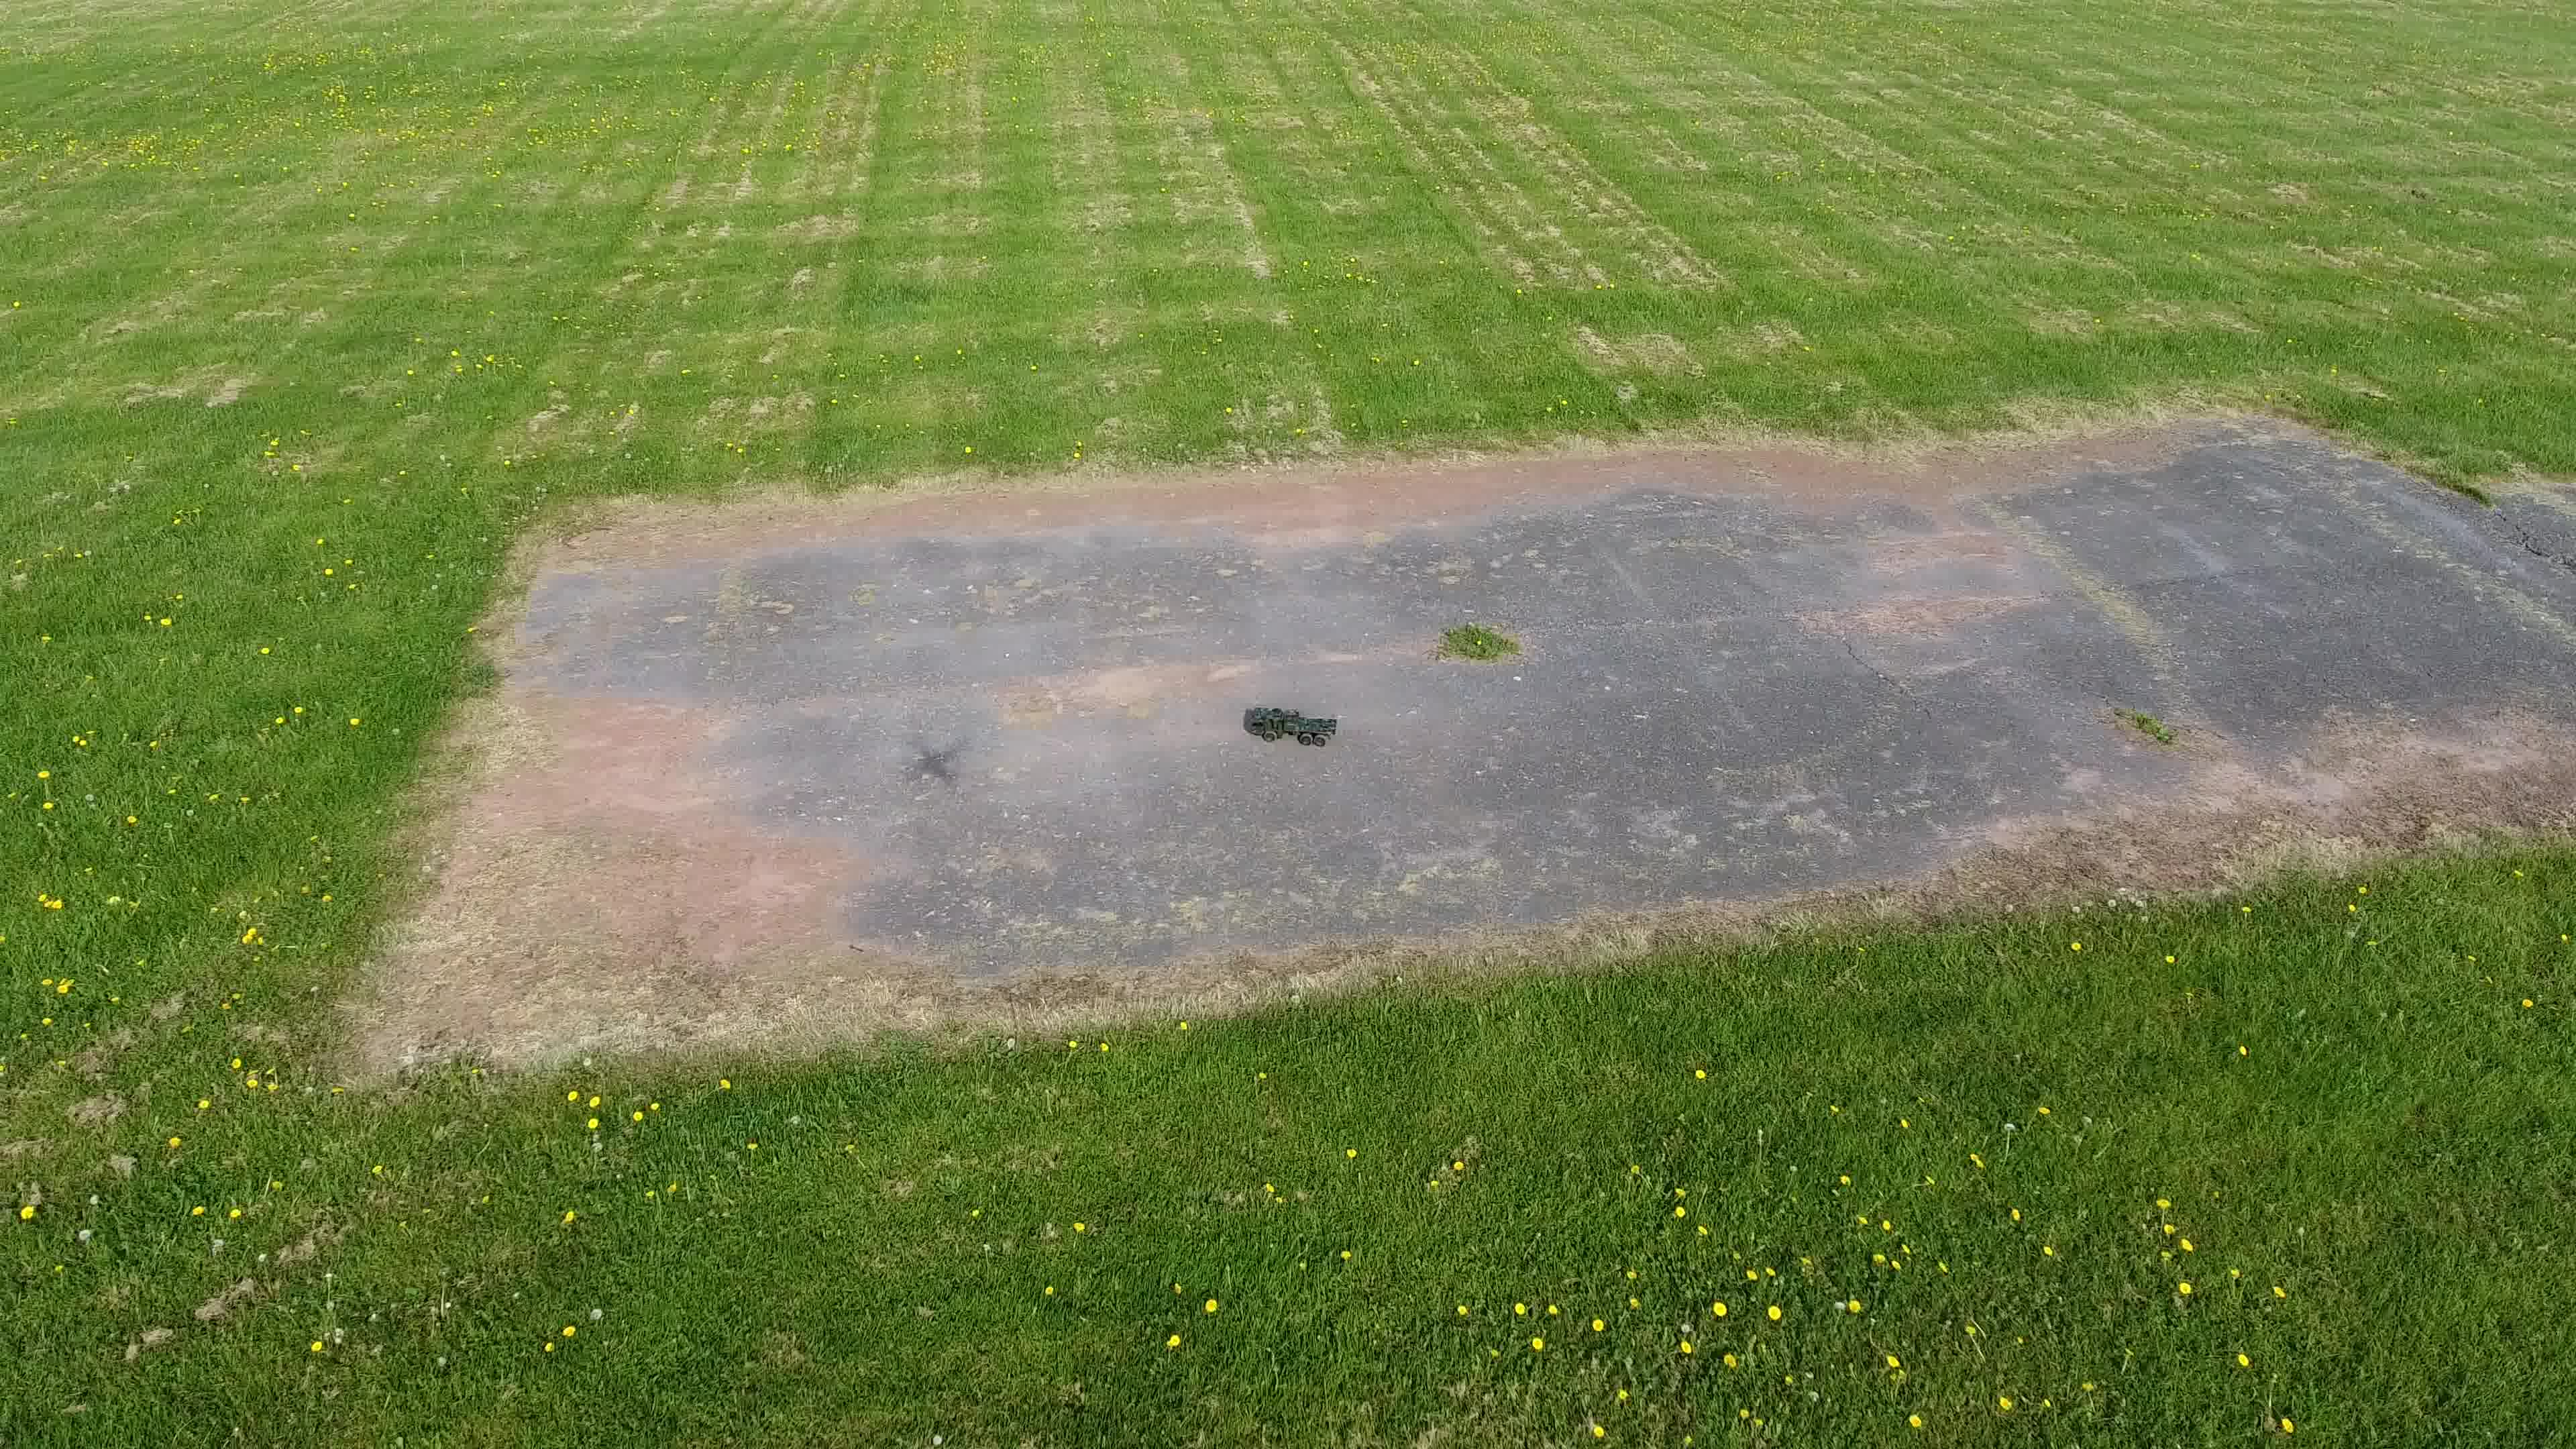transporter9_camo: (1242, 706, 1341, 747)
